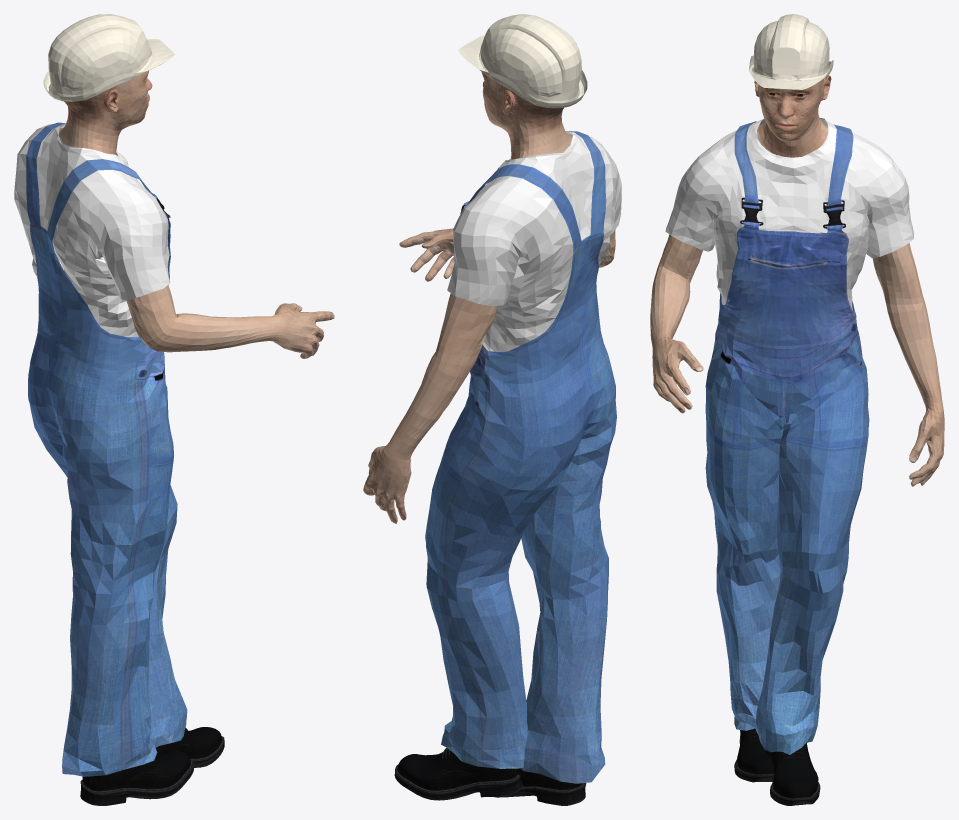
The model's file is male_worker.glb.
3 views of the same model, side by side, from view 1: azimuth 30°, elevation 25°; view 2: azimuth 150°, elevation 25°; view 3: azimuth 270°, elevation 25° (orthographic). The views are drawn at different scales.
Visible parts, largest first — view 1: FbxMesh.002, FbxMesh, FbxMesh.004, FbxMesh.003; view 2: FbxMesh.002, FbxMesh, FbxMesh.004, FbxMesh.003; view 3: FbxMesh.002, FbxMesh, FbxMesh.004, FbxMesh.003.
Boxes of the visible parts, <box> form: FbxMesh.002: <box>14,122,187,776</box>; FbxMesh: <box>59,71,334,358</box>; FbxMesh.004: <box>43,14,174,101</box>; FbxMesh.003: <box>80,727,224,805</box>; FbxMesh.002: <box>425,131,621,783</box>; FbxMesh: <box>363,72,615,523</box>; FbxMesh.004: <box>458,14,587,108</box>; FbxMesh.003: <box>394,747,586,805</box>; FbxMesh.002: <box>665,118,913,754</box>; FbxMesh: <box>650,75,944,486</box>; FbxMesh.004: <box>749,14,833,89</box>; FbxMesh.003: <box>734,728,820,805</box>.
Bounding box in the file's own units: 0.5811 × 1.78 × 0.6442.
5 materials, 4 textured.
